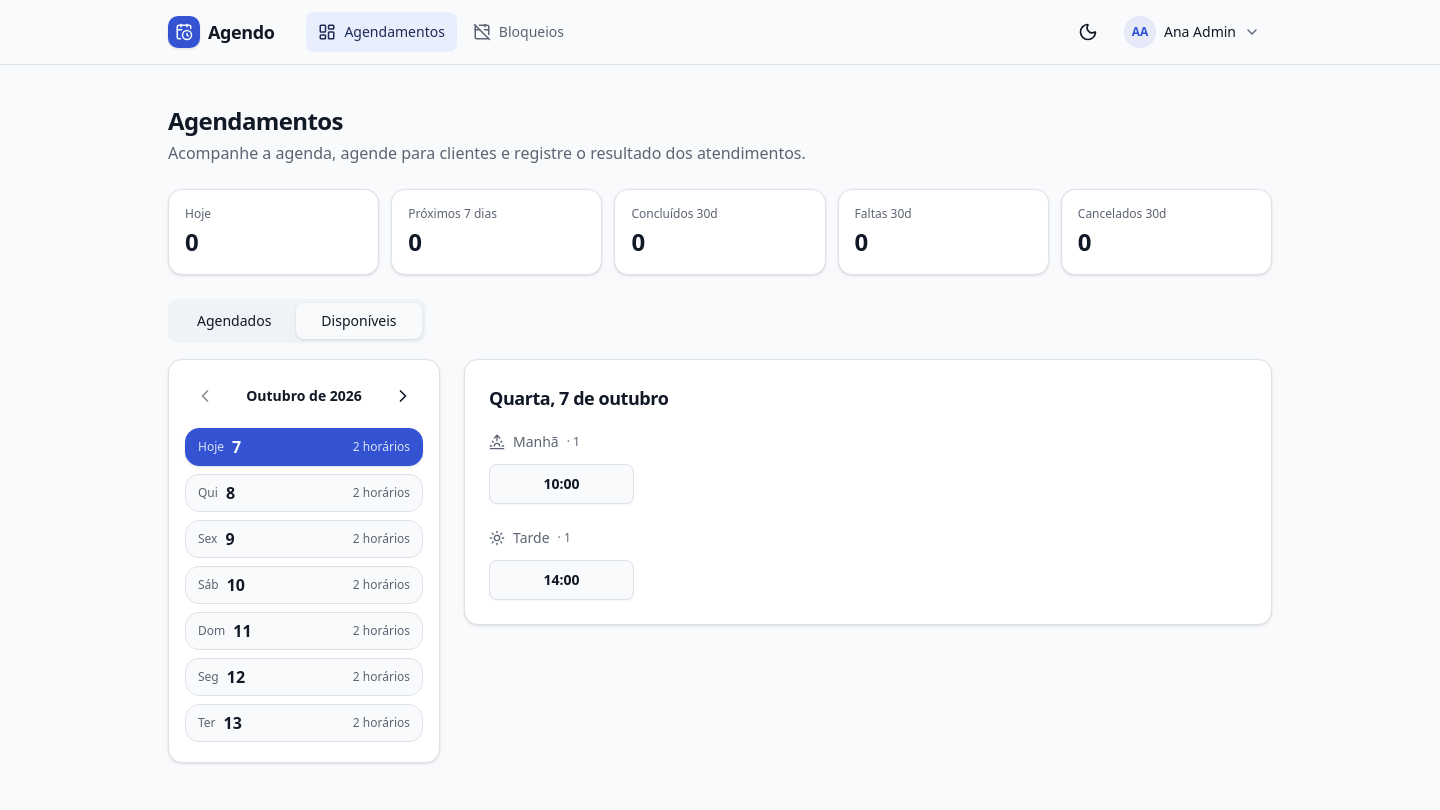
Test: admin booking for a client › closes and refreshes the slots when the slot was just taken (409 SLOT_TAKEN)
Step 1. Click the button "14:00" → point(562, 580), box [489, 560, 634, 600]
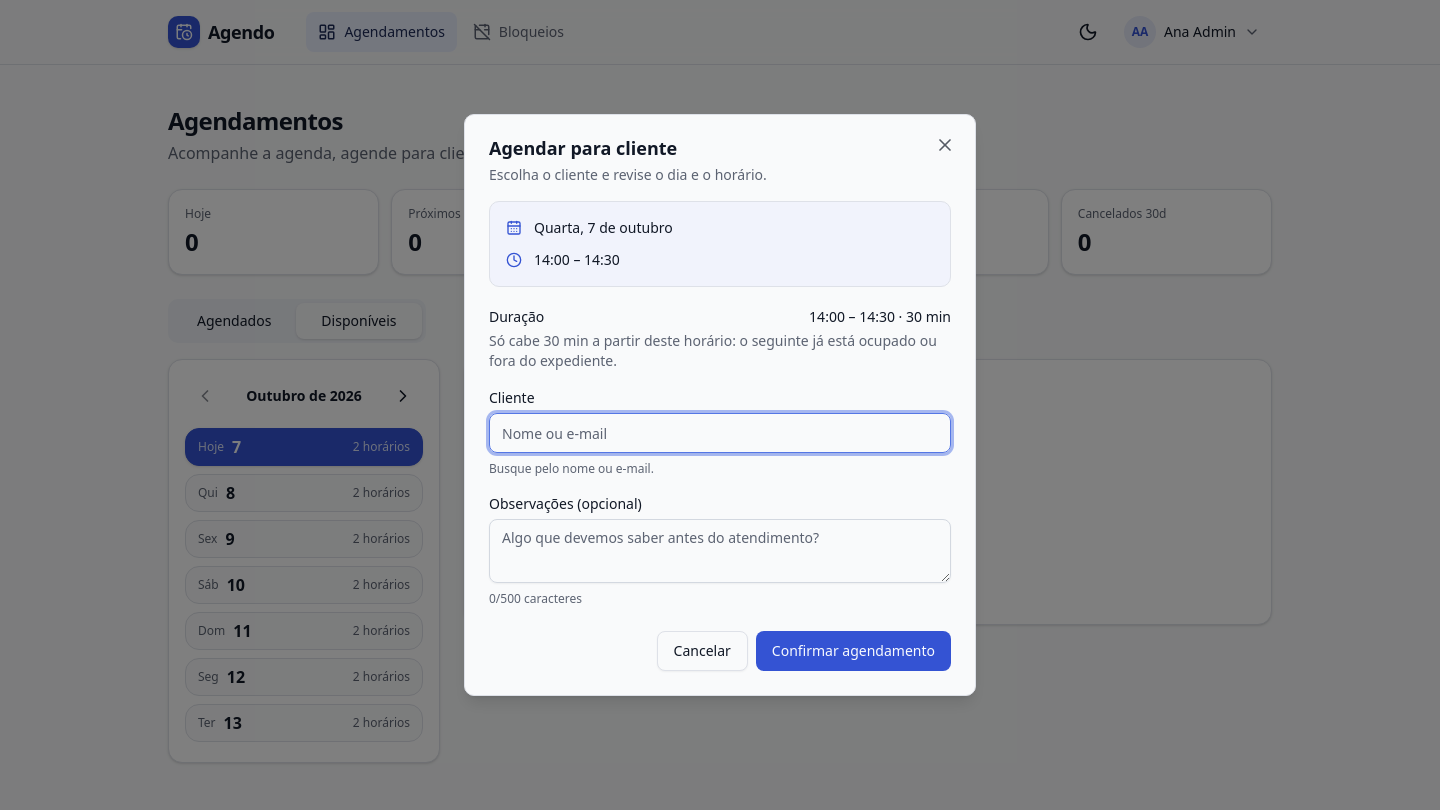
Step 2. Type "mar" into the dropdown labelled "Cliente" → point(720, 433), box [489, 413, 951, 453]
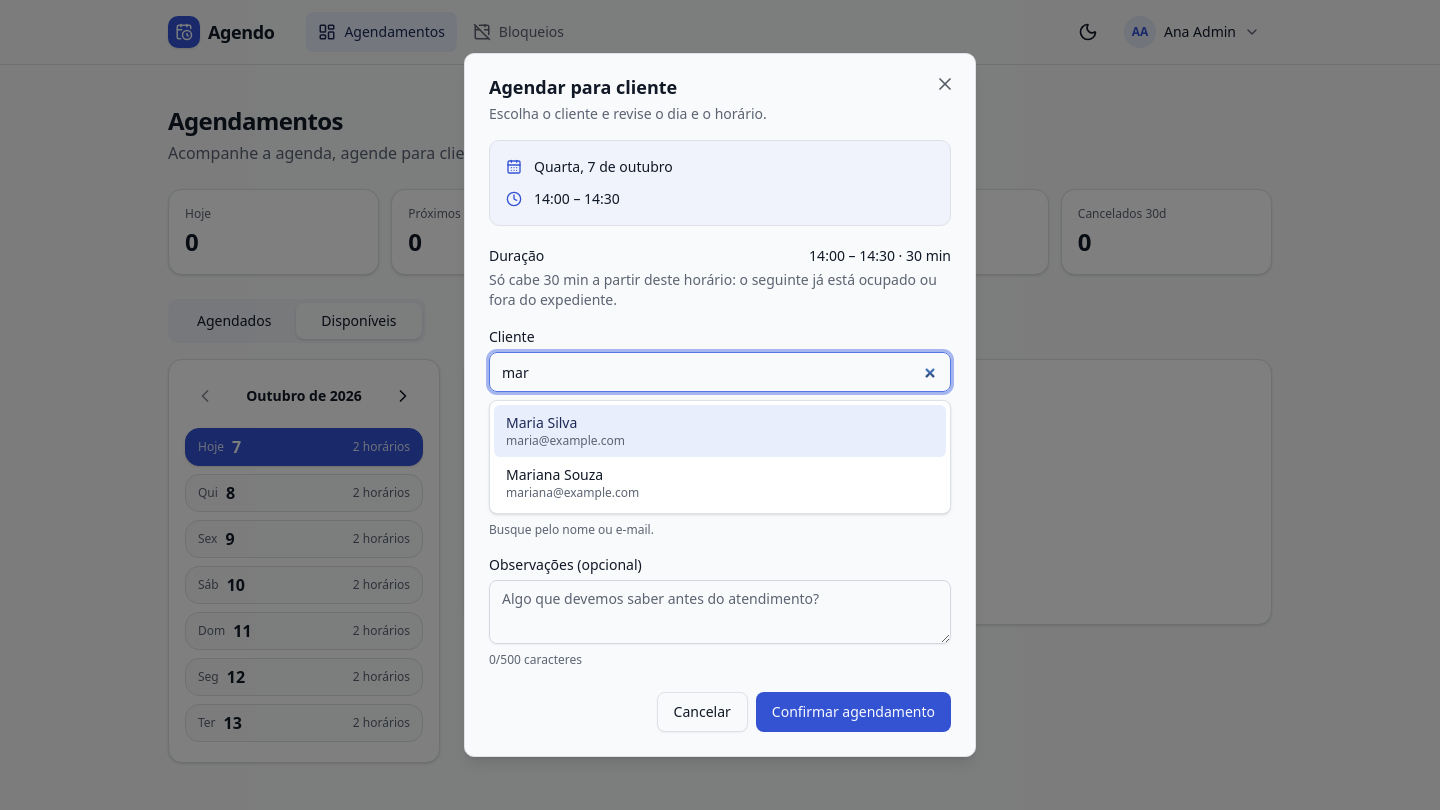
Result: the option "Mariana Souza mariana@example.com" is shown at [506, 465, 639, 501]
Step 3. Press Arrowdown Enter
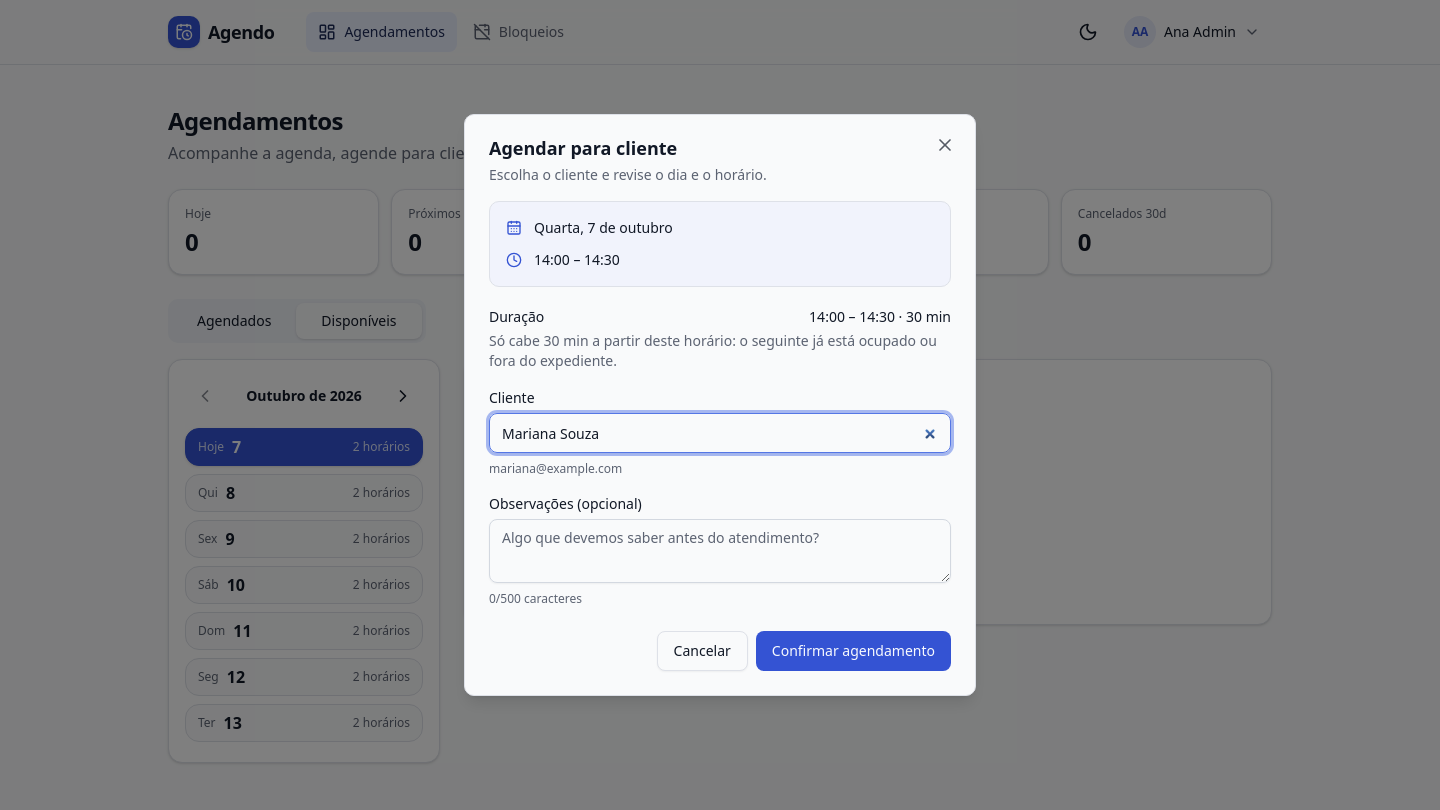
Result: the dropdown labelled "Cliente" holds "Mariana Souza" at [489, 413, 951, 453]
Result: the text "mariana@example.com" is shown at [489, 460, 622, 477]
Step 4. Click the button "Confirmar agendamento" → point(853, 651), box [756, 631, 951, 671]
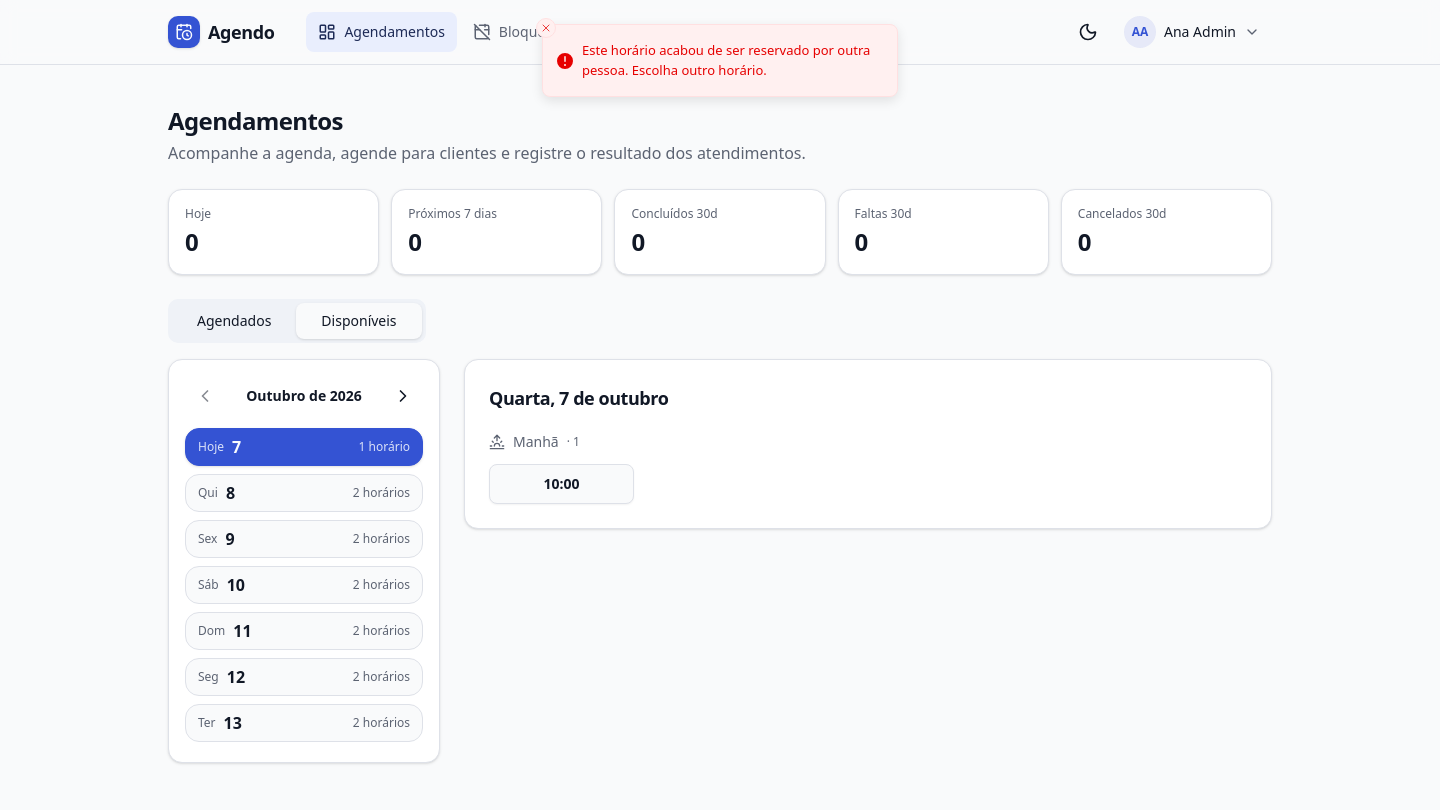
Result: the text "Este horário acabou de ser reservado" is shown at [582, 41, 870, 78]
Result: the dialog is gone
Result: the button "14:00" is gone
